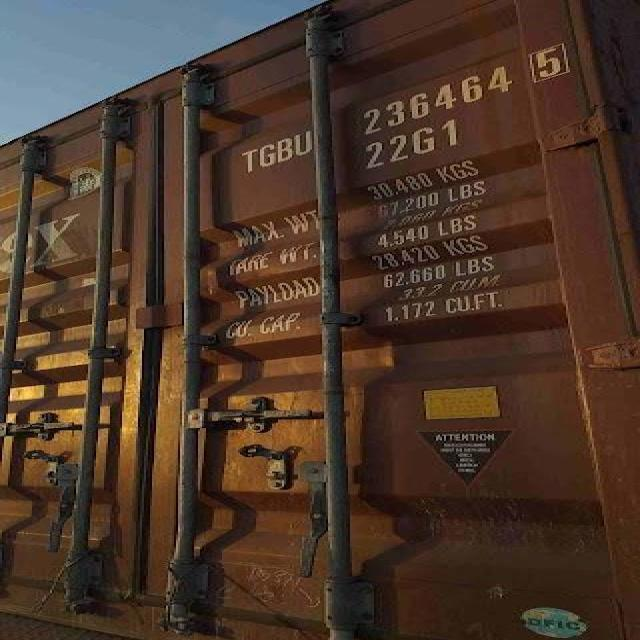ISO: (360, 114, 456, 174)
container_number: (240, 38, 574, 170)
